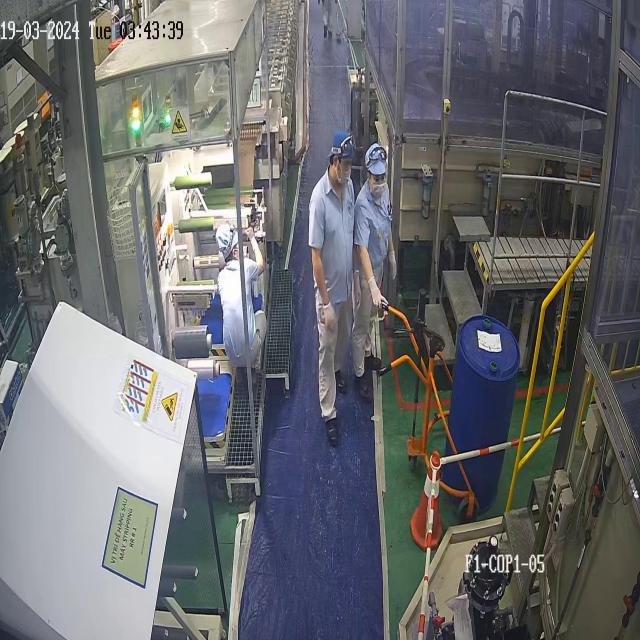Person: (308, 130, 356, 445), (351, 142, 397, 402), (215, 222, 266, 368)
